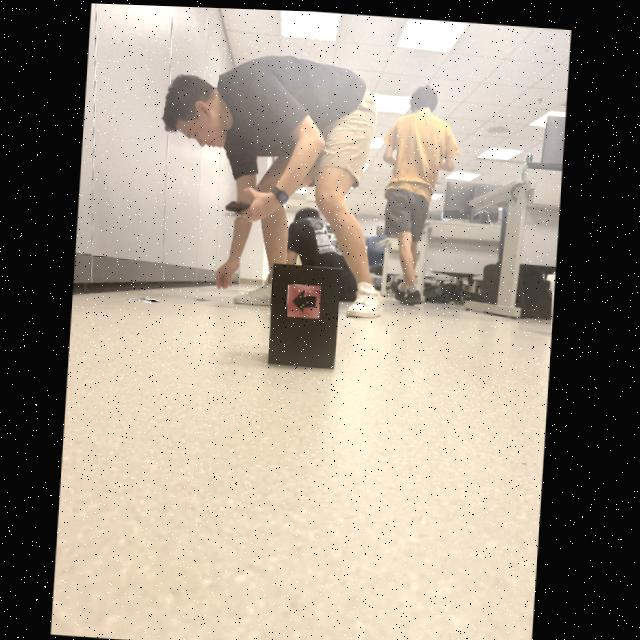LEFT: (294, 286, 318, 310)
